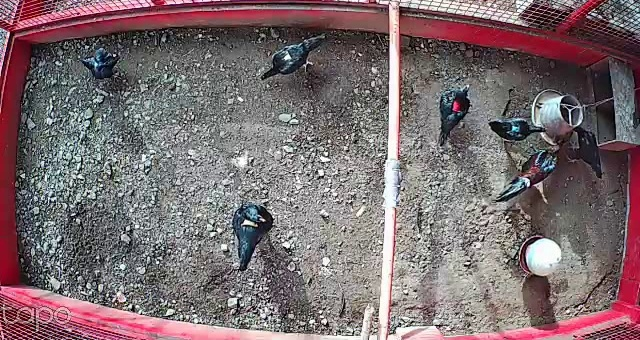Chicken: (253, 32, 327, 87), (434, 77, 473, 145), (563, 122, 608, 180), (483, 113, 551, 143), (79, 49, 127, 82)
Rooster: (489, 137, 569, 204)
Saddle_Color_Blue: (510, 125, 518, 133)
Saddle_Color_Red: (451, 99, 462, 112)
Saddle_Color_Yellow: (279, 49, 293, 64)
